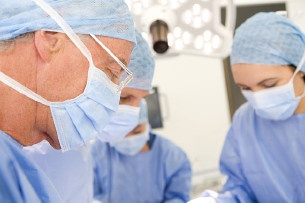Mask: (19, 32, 141, 153)
